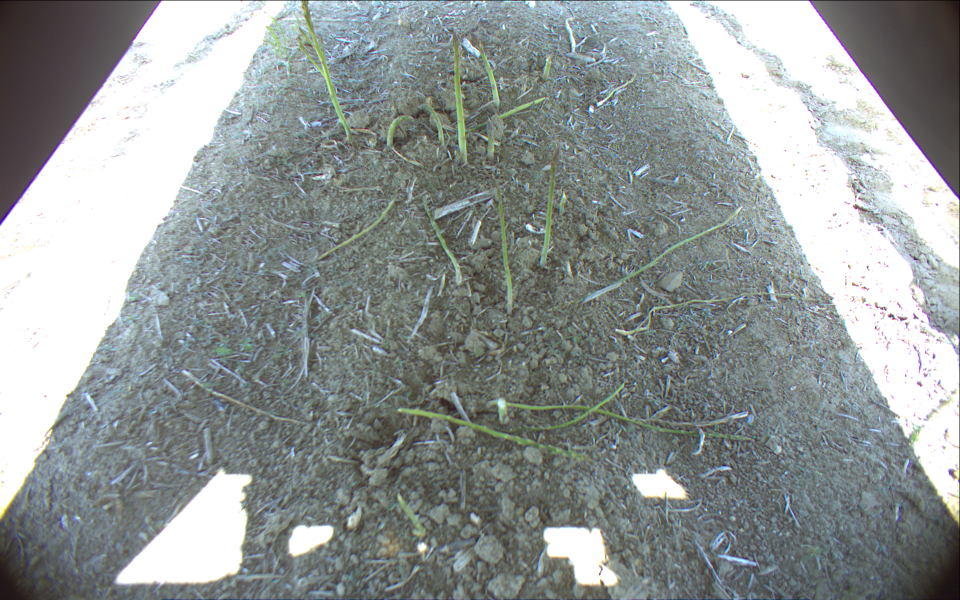aspa: (575, 206, 744, 305), (484, 400, 753, 442), (398, 409, 588, 464), (613, 293, 798, 334), (302, 1, 354, 142), (304, 197, 397, 268), (515, 384, 626, 434), (489, 169, 515, 316), (423, 197, 463, 283), (468, 97, 549, 132), (538, 145, 560, 265), (452, 33, 468, 167), (597, 71, 638, 108), (478, 44, 500, 108), (420, 96, 446, 143), (295, 37, 325, 76), (396, 492, 423, 533), (386, 114, 413, 148), (565, 16, 576, 54), (497, 398, 508, 426), (542, 56, 553, 79)
